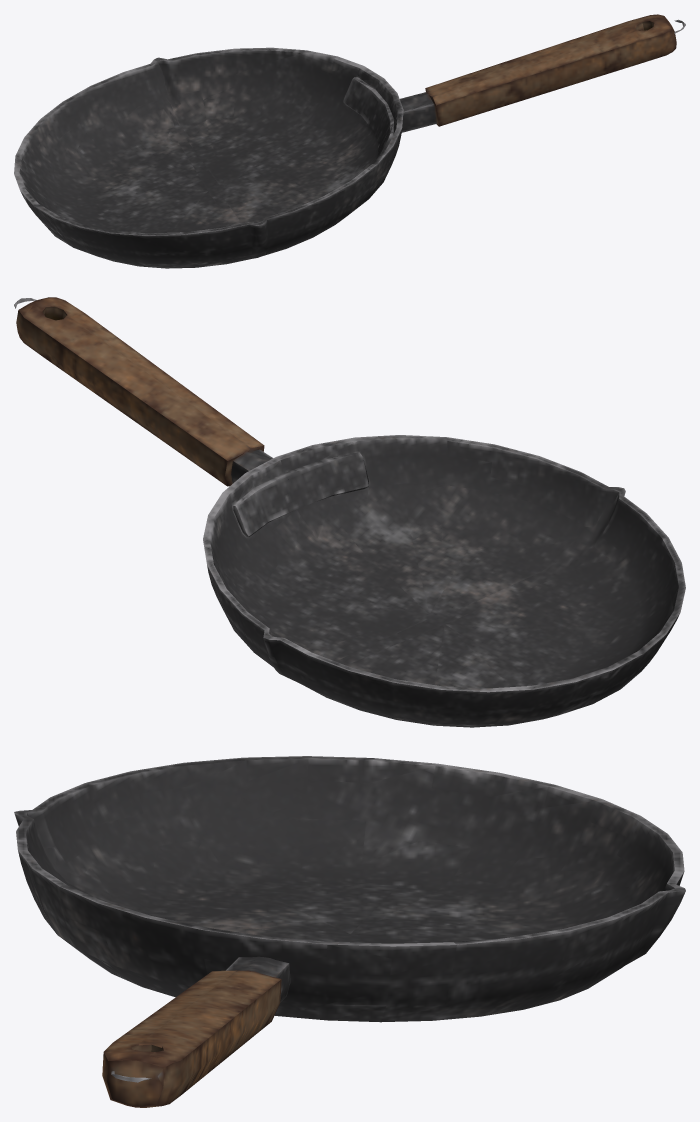
File: frying_pan.glb
The picture shows the model from 3 angles, top to bottom: view 1: azimuth 30°, elevation 25°; view 2: azimuth 150°, elevation 25°; view 3: azimuth 270°, elevation 25°; orthographic projection. The views are drawn at different scales.
Visible parts, largest first — view 1: mesh; view 2: mesh; view 3: mesh.
Boxes of the visible parts, box(x1,y1,x2,y2) form: mesh: box(14, 14, 685, 268); mesh: box(14, 297, 685, 727); mesh: box(14, 756, 685, 1107).
Bounding box in the file's own units: 0.247 × 0.06 × 0.1461.
1 material, 1 textured.
